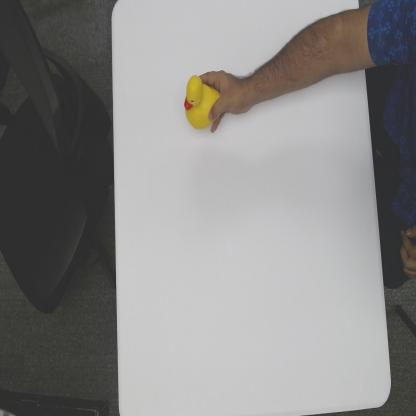Arm: (245, 12, 363, 107)
Duck: (183, 73, 221, 132)
Hand: (200, 68, 245, 133)
